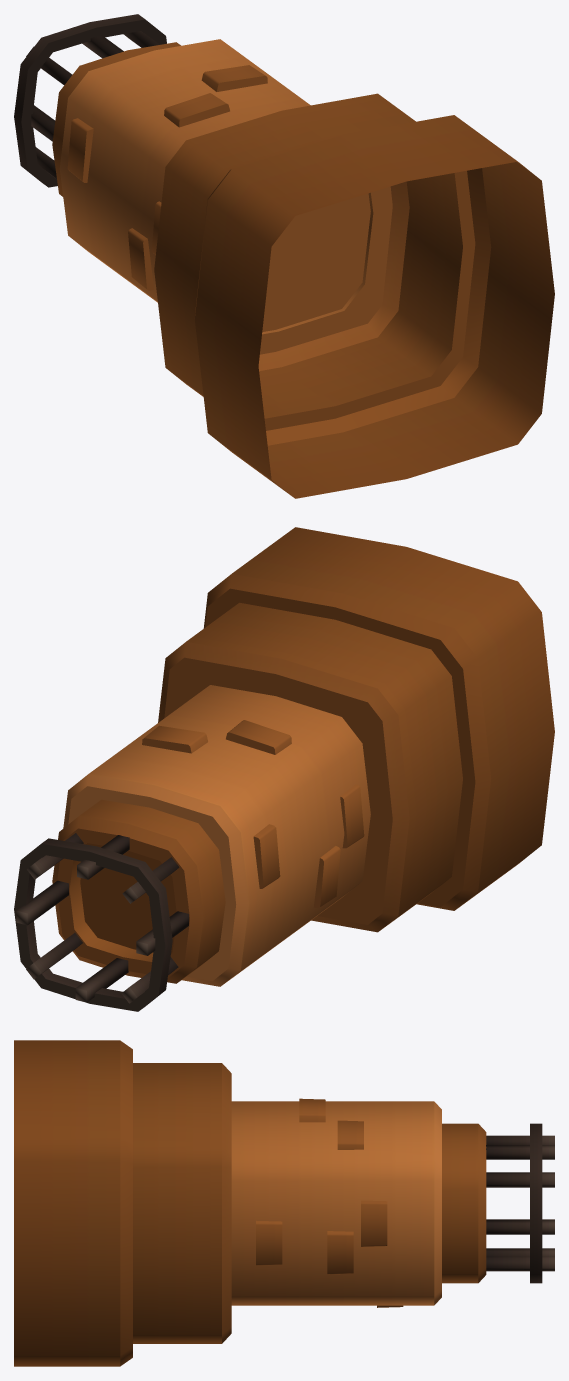
Rendered from Pillar 01.FBX.
The picture shows the model from 3 angles, top to bottom: view 1: azimuth 30°, elevation 25°; view 2: azimuth 150°, elevation 25°; view 3: azimuth 270°, elevation 25°; orthographic projection. The views are drawn at different scales.
Parts seen in each view (by area): view 1: Pillar 01; view 2: Pillar 01; view 3: Pillar 01.
Boxes of the visible parts, x1,y1,x2,y2 form: Pillar 01: (14, 14, 554, 498); Pillar 01: (14, 527, 554, 1011); Pillar 01: (14, 1040, 554, 1366).
Size of the model in its own units: 402 by 385 by 762.
Materials: 1 (1 with a texture image).
